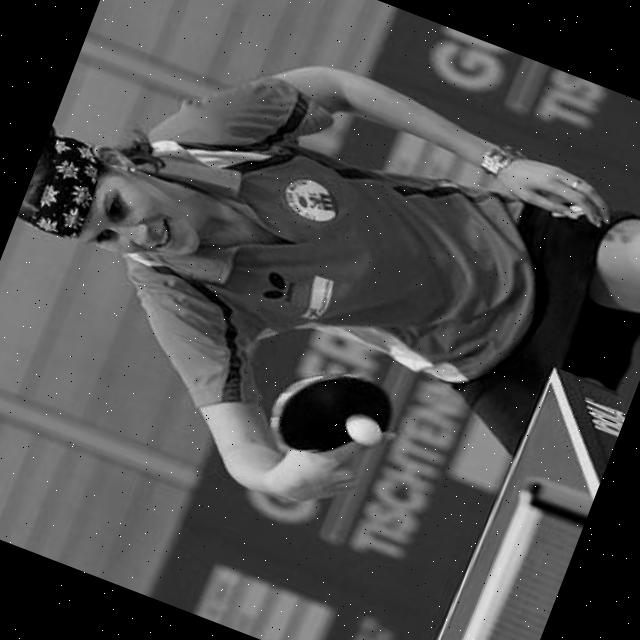ping-pong-ball: (340, 408, 386, 449)
